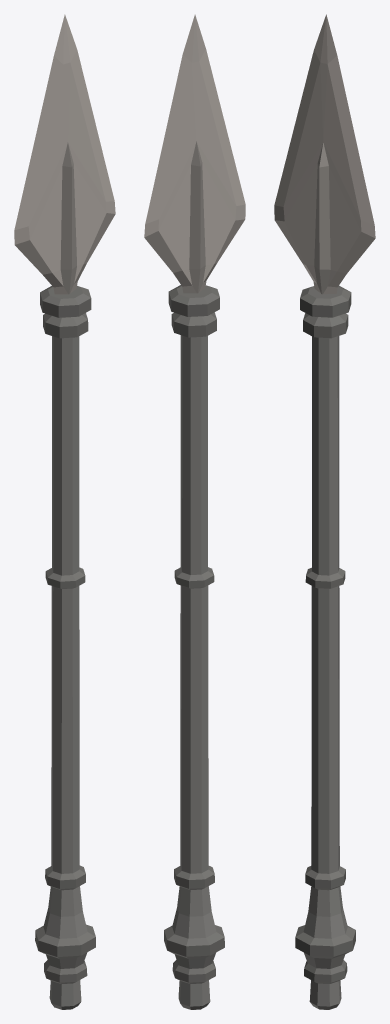
File: SM_pwe_fantasy_spear_07a.fbx
The picture shows the model from 3 angles, left to right: view 1: azimuth 30°, elevation 25°; view 2: azimuth 210°, elevation 25°; view 3: azimuth 330°, elevation 25°; orthographic projection.
Parts seen in each view (by area): view 1: SM_pwe_fantasy_spear_07a; view 2: SM_pwe_fantasy_spear_07a; view 3: SM_pwe_fantasy_spear_07a.
Part boxes in pixels (x1,y1,x2,y2): SM_pwe_fantasy_spear_07a: [14, 14, 115, 1009]; SM_pwe_fantasy_spear_07a: [144, 14, 245, 1009]; SM_pwe_fantasy_spear_07a: [274, 14, 375, 1009].
Size of the model in its own units: 17.89 by 168 by 9.64.
